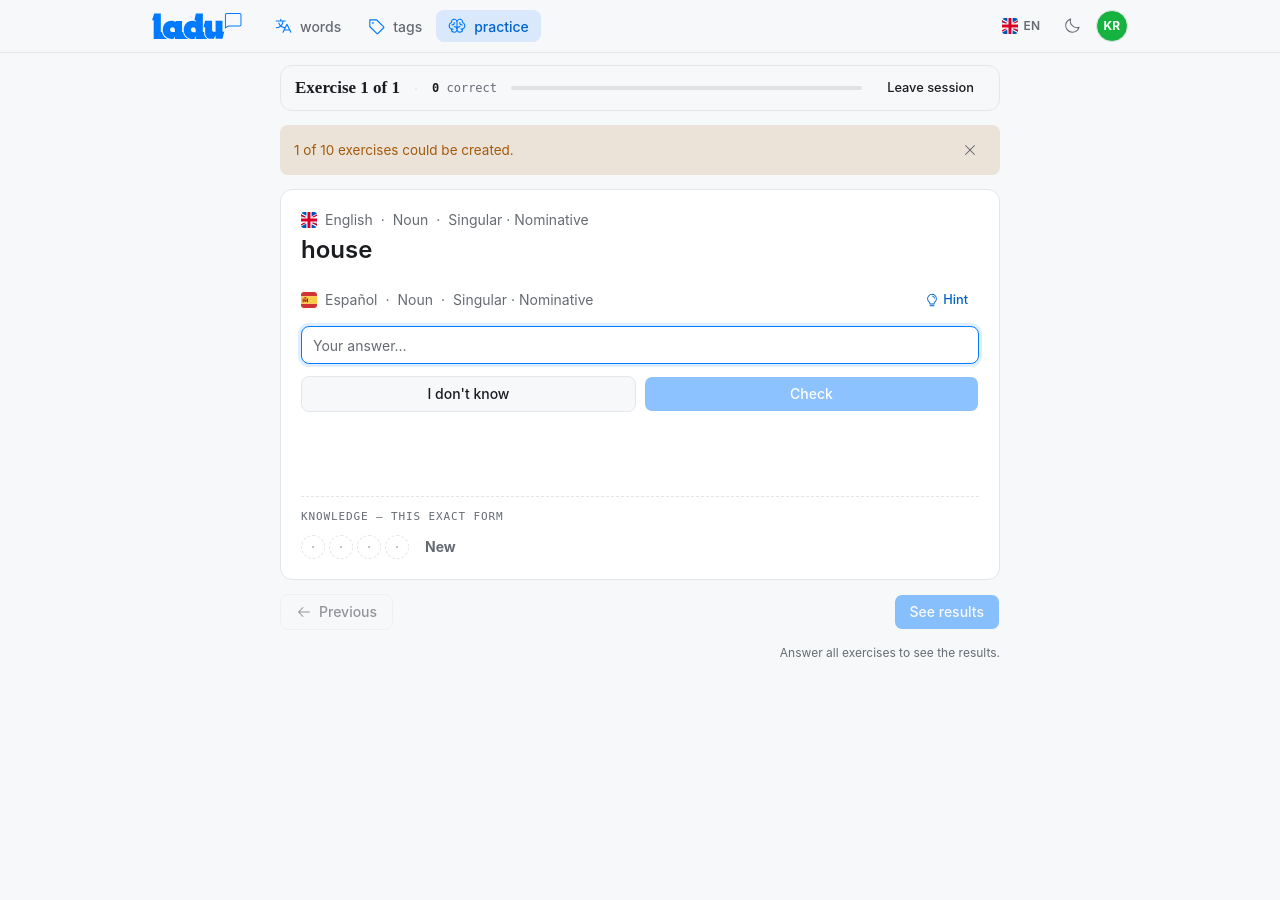
Test: SessionView — typed answers › shows the native-language hint row only when the button is pressed, also after the answer
The width and height of the screenshot is (1280, 900).
Click the button "Hint" at [947, 300], box [914, 286, 979, 314]
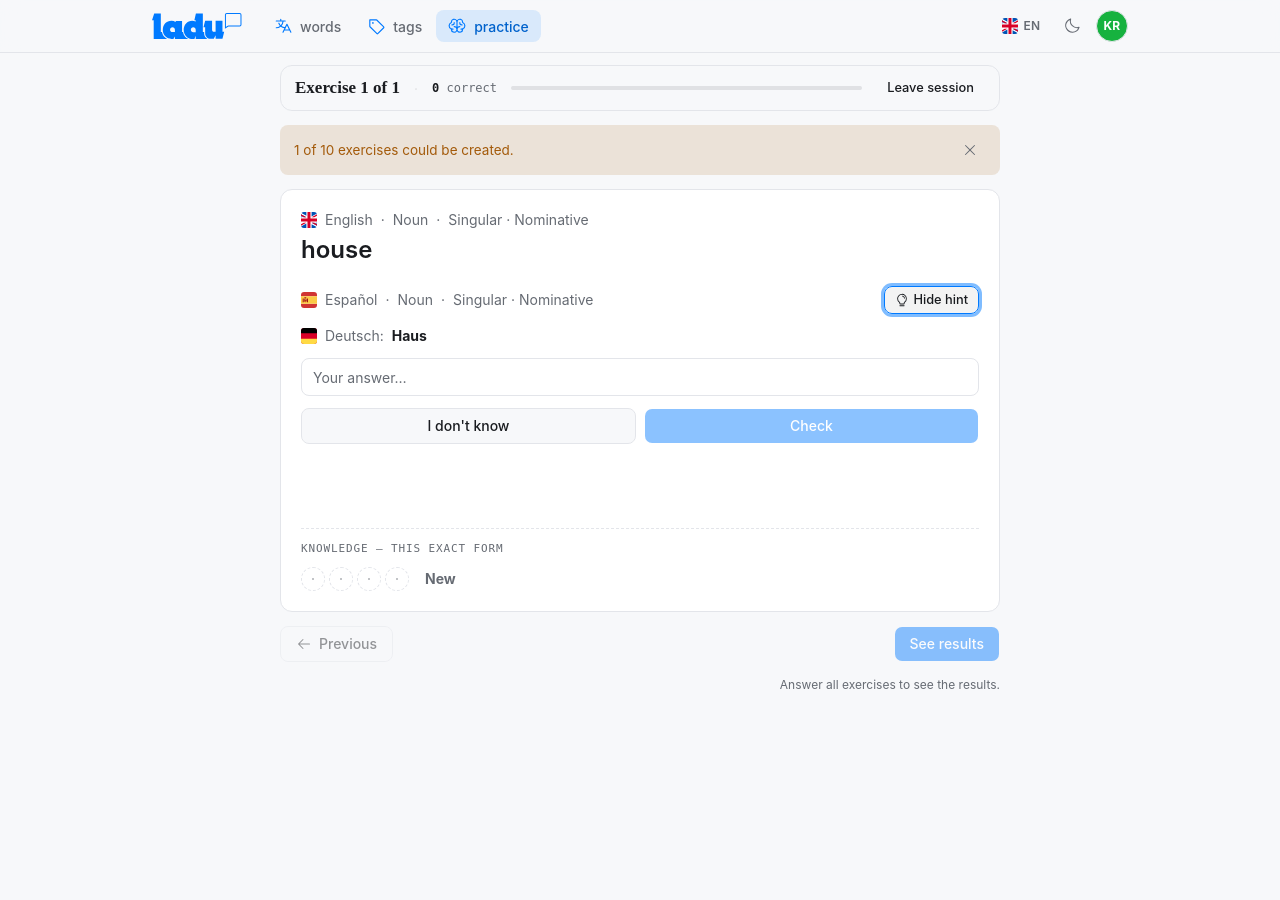
expect the element with test id "hint-row" reads "Deutsch: Haus": met, box [301, 327, 427, 344]
Click the button "Hide hint" at [932, 300], box [884, 286, 979, 314]
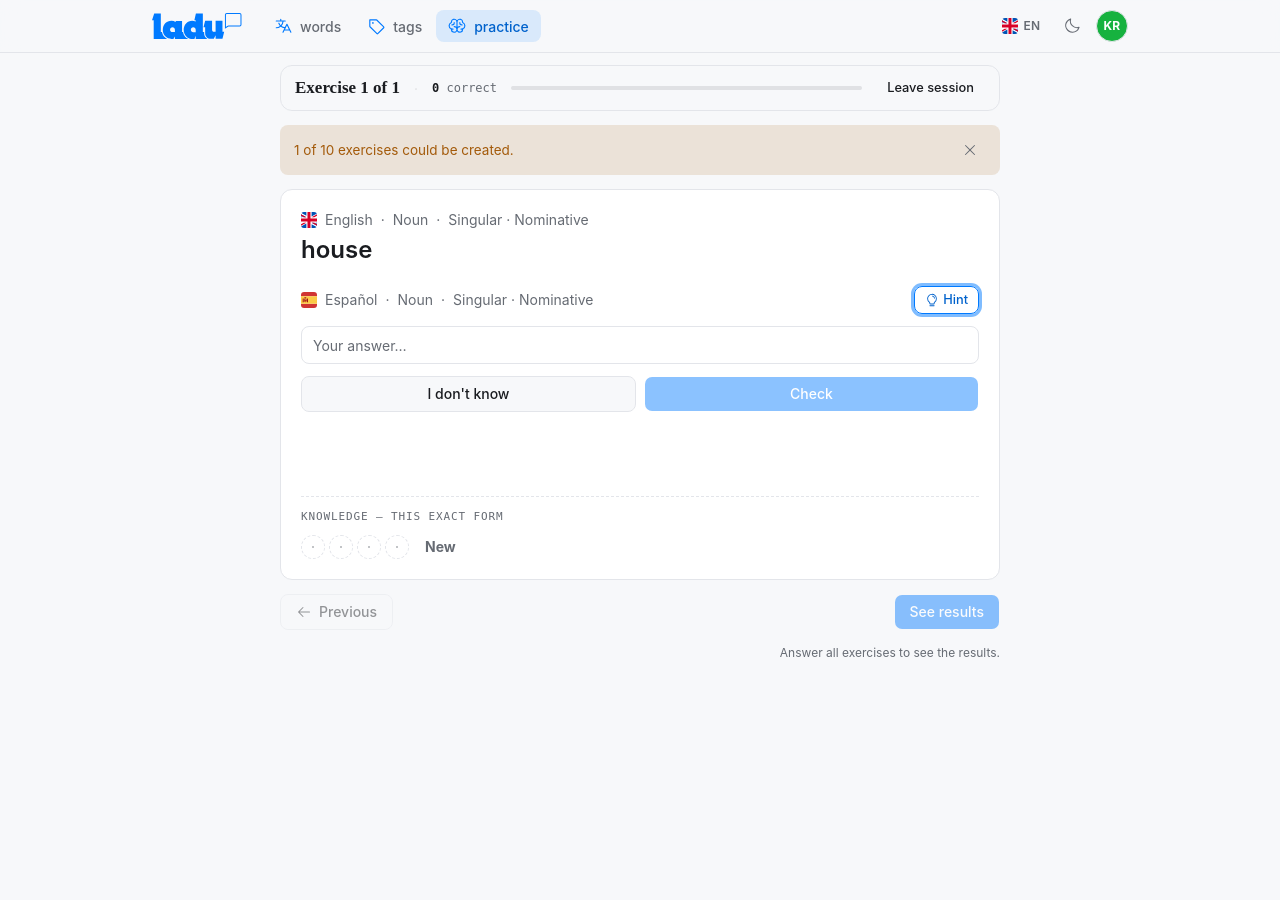
expect the element with test id "hint-row" is gone: met
Click the button "I don't know" at [468, 394], box [301, 376, 636, 412]
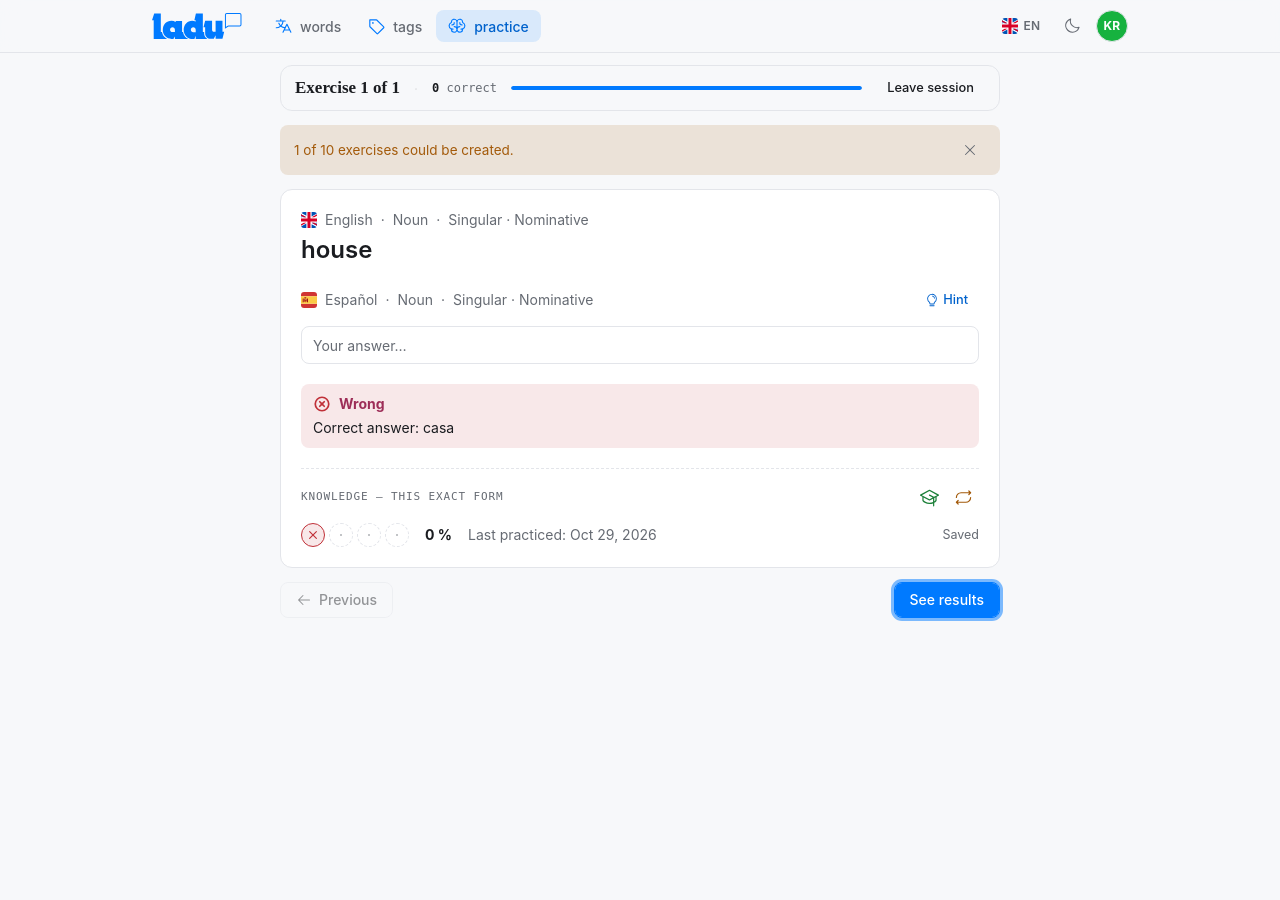
Click the button "Hint" at [947, 300], box [914, 286, 979, 314]
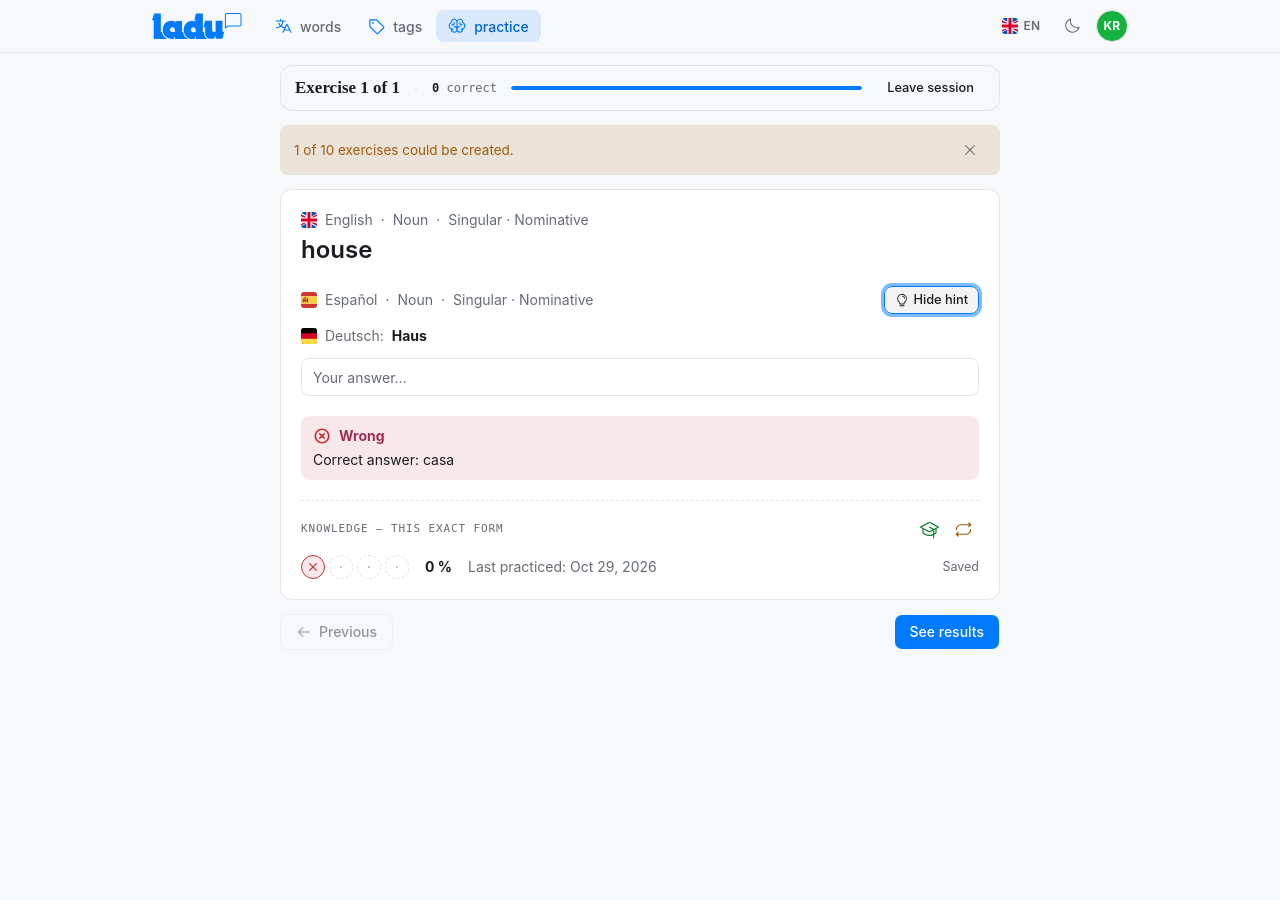
expect the element with test id "hint-row" reads "Deutsch: Haus": met, box [301, 327, 427, 344]
